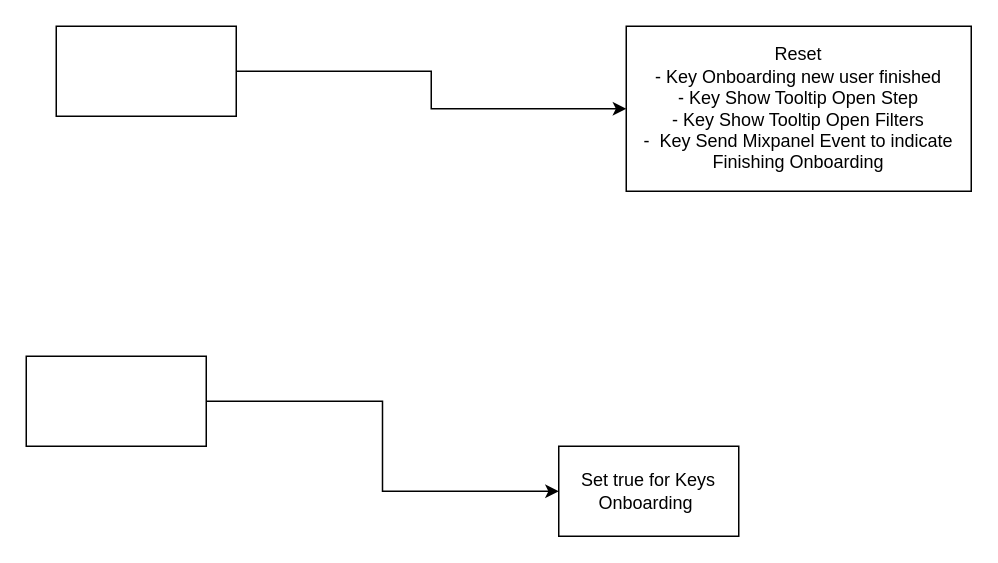
Some shapes in this 998 by 563 pixel diagram are drawn without their labels. Each missing label, with the centre of its shape:
"Finished Onboarding Flow when new user registered" belongs at point (115, 400).
"Когда Инититься Onboarding Coordinator" belongs at point (145, 70).
